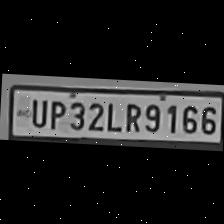1: (160, 100, 180, 134)
2: (85, 98, 105, 132)
3: (64, 96, 86, 130)
6: (196, 103, 218, 135), (178, 102, 198, 134)
9: (140, 100, 162, 132)
L: (102, 98, 122, 132)
P: (45, 96, 65, 130)
R: (120, 98, 142, 132)
U: (26, 95, 48, 127)
